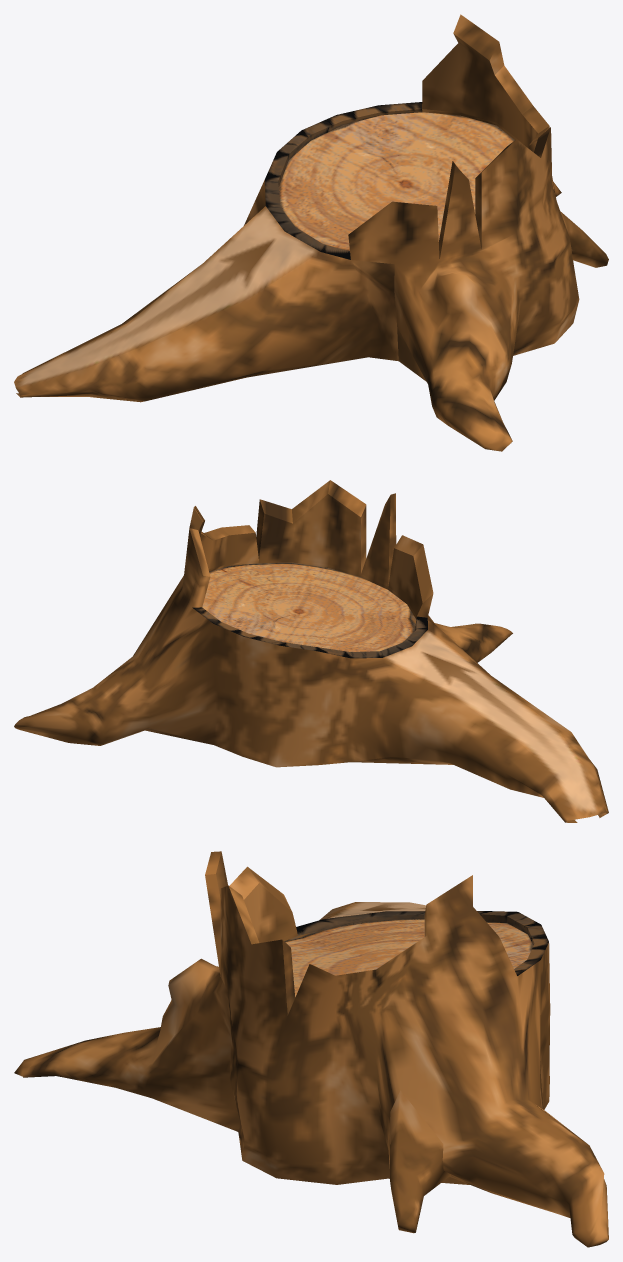
File: treeTrunk.fbx
The picture shows the model from 3 angles, top to bottom: view 1: azimuth 30°, elevation 25°; view 2: azimuth 150°, elevation 25°; view 3: azimuth 270°, elevation 25°; orthographic projection. The views are drawn at different scales.
Visible parts, largest first — view 1: polySurface13; view 2: polySurface13; view 3: polySurface13.
Boxes of the visible parts, x1,y1,x2,y2 form: polySurface13: [14, 14, 608, 451]; polySurface13: [14, 480, 608, 822]; polySurface13: [14, 851, 608, 1247].
Bounding box in the file's own units: 4.9 × 1.99 × 3.61.
